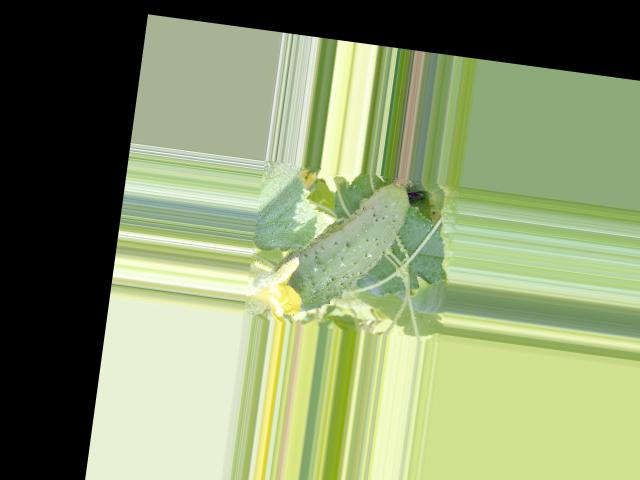cucumber: (270, 162, 413, 323)
